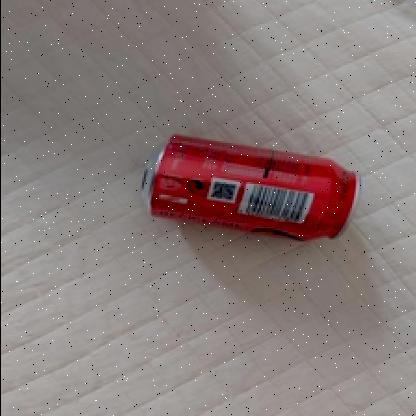Can: (135, 129, 363, 250)
